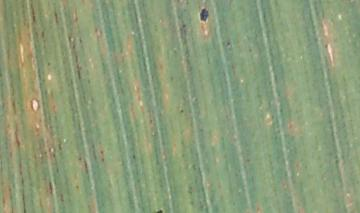tarspot: (197, 6, 211, 25), (74, 63, 83, 80), (71, 6, 80, 23), (52, 9, 60, 26), (29, 3, 36, 22), (47, 179, 55, 195), (58, 192, 66, 203), (130, 152, 137, 162), (39, 29, 46, 39), (99, 156, 107, 164), (246, 46, 254, 54), (178, 107, 185, 115), (153, 208, 164, 213), (66, 33, 72, 42), (98, 148, 105, 155), (224, 40, 231, 47), (180, 22, 187, 29), (45, 60, 52, 67), (70, 42, 77, 49), (78, 34, 83, 43), (184, 1, 191, 7), (74, 53, 78, 63), (76, 156, 83, 161), (174, 1, 181, 3)
